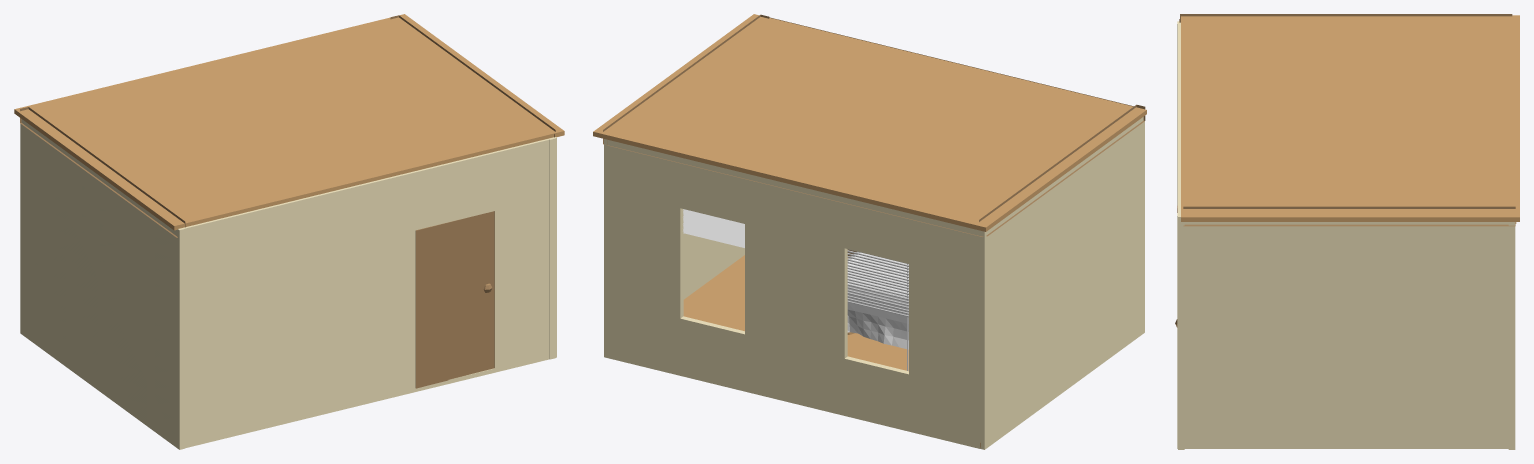
The model's file is room_lp_obj_small.glb.
The picture shows the model from 3 angles, left to right: view 1: azimuth 30°, elevation 25°; view 2: azimuth 150°, elevation 25°; view 3: azimuth 270°, elevation 25°; orthographic projection. The views are drawn at different scales.
Parts seen in each view (by area): view 1: wall, ceiling, door, wall_edges; view 2: wall, ceiling, floor, bed_cloth, blind1, wall_edges, blind2; view 3: wall, ceiling, wall_edges.
Part boxes in pixels (x1,y1,x2,y2): wall: [20, 119, 556, 449]; ceiling: [14, 14, 564, 230]; door: [415, 211, 494, 388]; wall_edges: [20, 15, 555, 237]; wall: [604, 117, 1144, 449]; ceiling: [593, 14, 1146, 231]; floor: [683, 255, 980, 447]; bed_cloth: [847, 252, 908, 349]; blind1: [847, 249, 908, 317]; wall_edges: [603, 14, 1145, 236]; blind2: [683, 209, 744, 247]; wall: [1177, 21, 1515, 449]; ceiling: [1181, 15, 1519, 221]; wall_edges: [1179, 14, 1516, 226].
Size of what is drawn, in the model's own units: 7.15 by 3.95 by 5.16.
